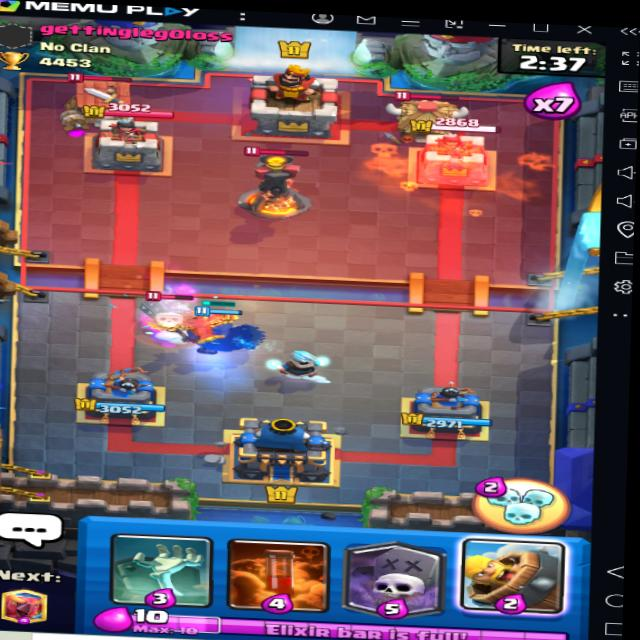barbarian-hut: (60, 69, 140, 134)
goblin-hut: (387, 86, 471, 145)
inferno-tower: (231, 143, 318, 218)
